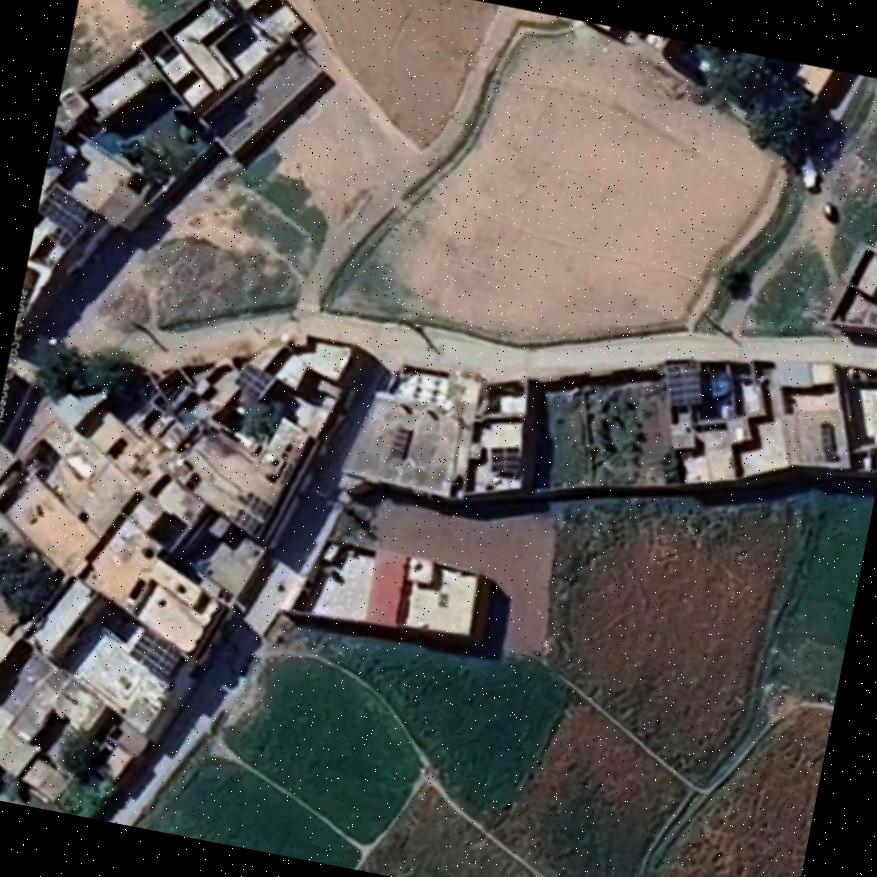Solarpanel: (38, 185, 91, 236), (133, 632, 178, 674), (235, 362, 271, 399), (668, 364, 700, 403), (490, 449, 518, 471)
